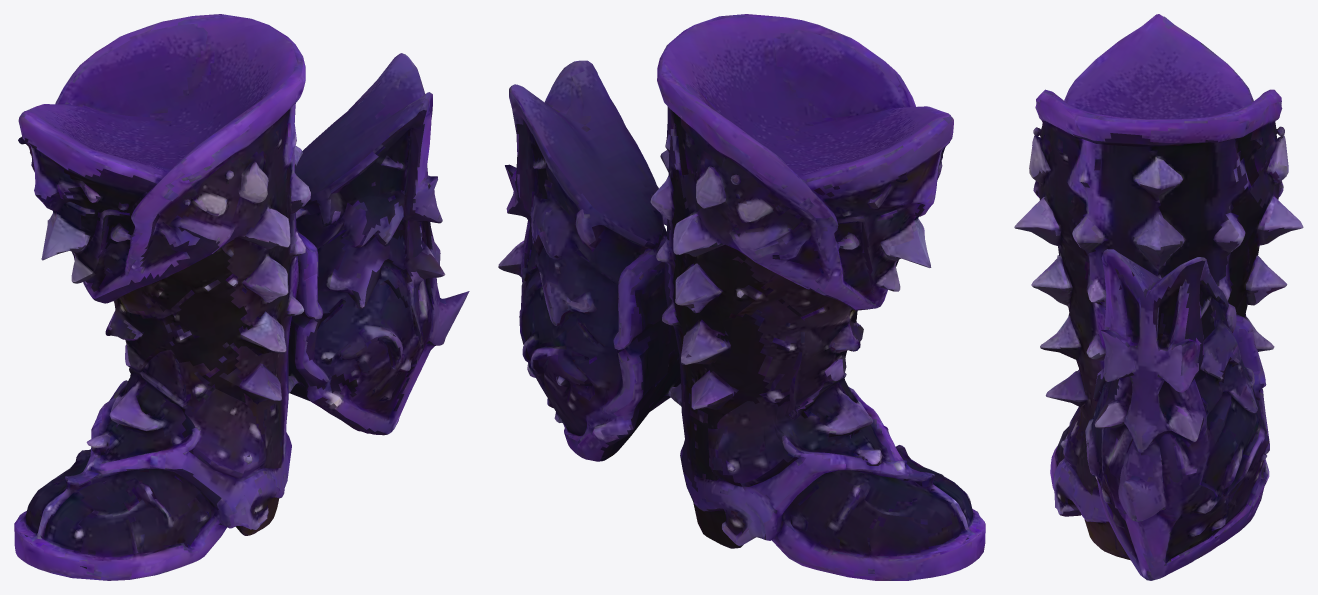
The model's file is duelista-greva.glb.
3 renders of one model, left to right at view 1: azimuth 30°, elevation 25°; view 2: azimuth 150°, elevation 25°; view 3: azimuth 270°, elevation 25°, orthographic. The views are drawn at different scales.
Visible parts, largest first — view 1: tripo_node_10589f15-fe7d-4384-b161-727772544098; view 2: tripo_node_10589f15-fe7d-4384-b161-727772544098; view 3: tripo_node_10589f15-fe7d-4384-b161-727772544098.
Boxes of the visible parts, left/top/right/bottom form: tripo_node_10589f15-fe7d-4384-b161-727772544098: left=14, top=14, right=469, bottom=580; tripo_node_10589f15-fe7d-4384-b161-727772544098: left=498, top=14, right=985, bottom=580; tripo_node_10589f15-fe7d-4384-b161-727772544098: left=1014, top=14, right=1303, bottom=580.
Bounding box in the file's own units: 0.9776 × 0.9766 × 0.567.
1 material, 1 textured.
